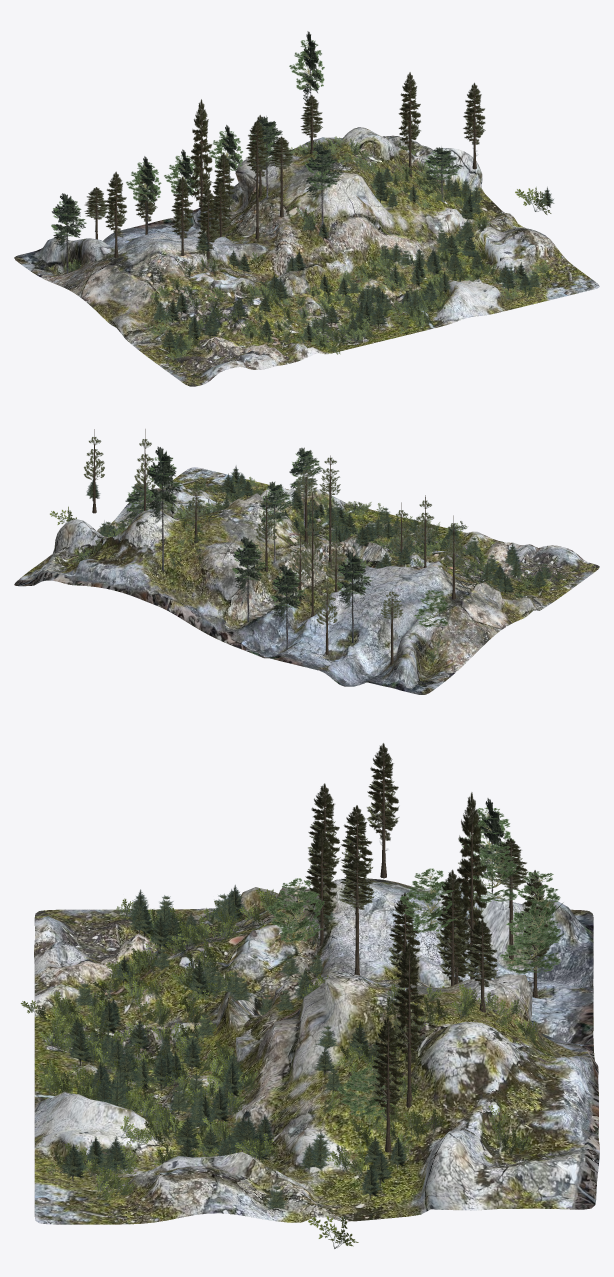
The model's file is mountain_forest.glb.
The picture shows the model from 3 angles, top to bottom: view 1: azimuth 30°, elevation 25°; view 2: azimuth 150°, elevation 25°; view 3: azimuth 270°, elevation 25°; orthographic projection. The views are drawn at different scales.
Visible parts, largest first — view 1: a37081a7611992c6f6d9dc1786dbc08d, 05ade0e713892be558511d706fa6c547-no-bg-preview (carve.photos (×8), Cylinder.023, Cylinder.018, Cylinder.019, Cylinder.016, Cylinder.012, Cylinder.015, Cylinder.014, Cylinder.013, Cylinder.017, Cylinder.020 (+3 smaller); view 2: a37081a7611992c6f6d9dc1786dbc08d, 05ade0e713892be558511d706fa6c547-no-bg-preview (carve.photos (×8), Cylinder.023, Cylinder.012, Cylinder.016, Cylinder.019, Cylinder.024, Cylinder.018, Cylinder.015, Cylinder.021, Cylinder.025, Cylinder.013 (+4 smaller); view 3: a37081a7611992c6f6d9dc1786dbc08d, 05ade0e713892be558511d706fa6c547-no-bg-preview (carve.photos (×8), Cylinder.023, Cylinder.018, Cylinder.016, Cylinder.019, Cylinder.021, Cylinder.014, Cylinder.020, Cylinder.013, Cylinder.015, Cylinder.017 (+4 smaller).
Boxes of the visible parts, x1,y1,x2,y2 form: a37081a7611992c6f6d9dc1786dbc08d: (14, 127, 599, 386); 05ade0e713892be558511d706fa6c547-no-bg-preview (carve.photos (×8): (51, 31, 463, 273); Cylinder.023: (190, 99, 212, 227); Cylinder.018: (398, 72, 420, 177); Cylinder.019: (463, 82, 485, 169); Cylinder.016: (104, 171, 126, 257); Cylinder.012: (246, 120, 267, 238); Cylinder.015: (171, 176, 193, 256); Cylinder.014: (197, 187, 219, 262); Cylinder.013: (269, 136, 293, 216); Cylinder.017: (210, 181, 231, 237); Cylinder.020: (300, 95, 322, 153); a37081a7611992c6f6d9dc1786dbc08d: (14, 467, 599, 694); 05ade0e713892be558511d706fa6c547-no-bg-preview (carve.photos (×8): (125, 446, 450, 649); Cylinder.023: (302, 491, 322, 616); Cylinder.012: (319, 455, 340, 568); Cylinder.016: (443, 515, 464, 599); Cylinder.019: (83, 429, 104, 513); Cylinder.024: (316, 574, 337, 654); Cylinder.018: (134, 429, 155, 510); Cylinder.015: (414, 495, 435, 567); Cylinder.021: (255, 491, 276, 571); Cylinder.025: (380, 591, 403, 664); Cylinder.013: (294, 469, 317, 545); a37081a7611992c6f6d9dc1786dbc08d: (34, 878, 599, 1224); 05ade0e713892be558511d706fa6c547-no-bg-preview (carve.photos (×8): (267, 798, 564, 1116); Cylinder.023: (456, 792, 487, 979); Cylinder.018: (392, 942, 425, 1107); Cylinder.016: (366, 743, 399, 878); Cylinder.019: (371, 1017, 403, 1152); Cylinder.021: (435, 869, 468, 986); Cylinder.014: (305, 828, 337, 945); Cylinder.020: (465, 919, 498, 1012); Cylinder.013: (339, 858, 374, 975); Cylinder.015: (308, 783, 340, 894); Cylinder.017: (388, 893, 420, 978).
Bounding box in the file's own units: 33.66 × 13.04 × 23.4.
10 materials, 10 textured.
